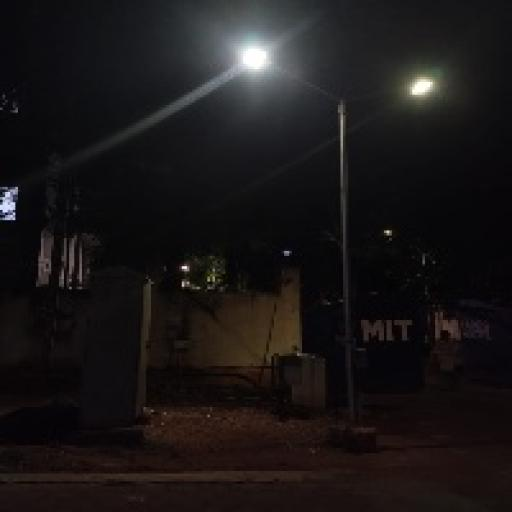Working: (228, 40, 282, 78), (400, 75, 437, 100)
